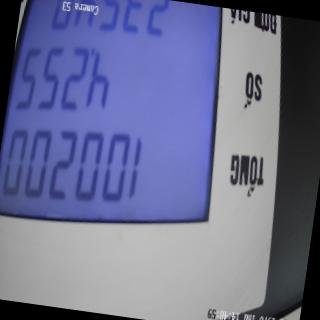screen: (0, 0, 243, 249)
